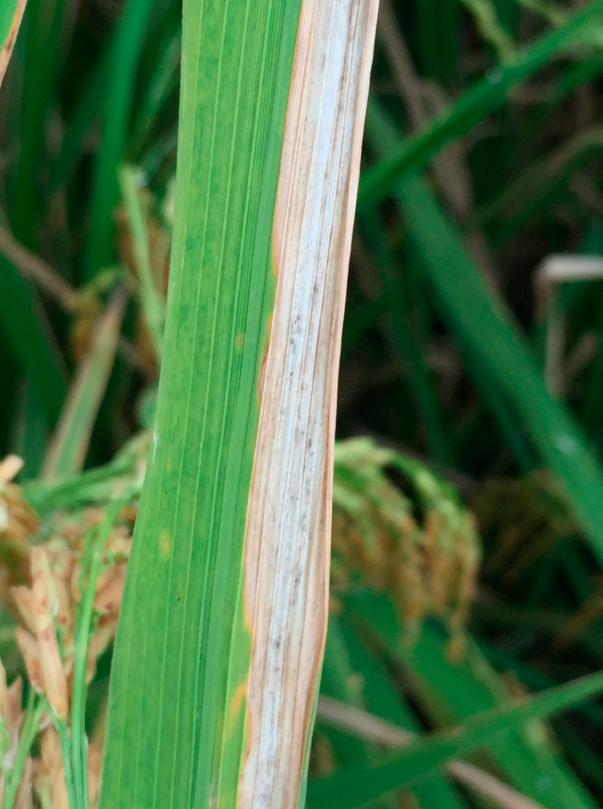BLB: (229, 1, 378, 807)
LEAF: (102, 0, 379, 808)
